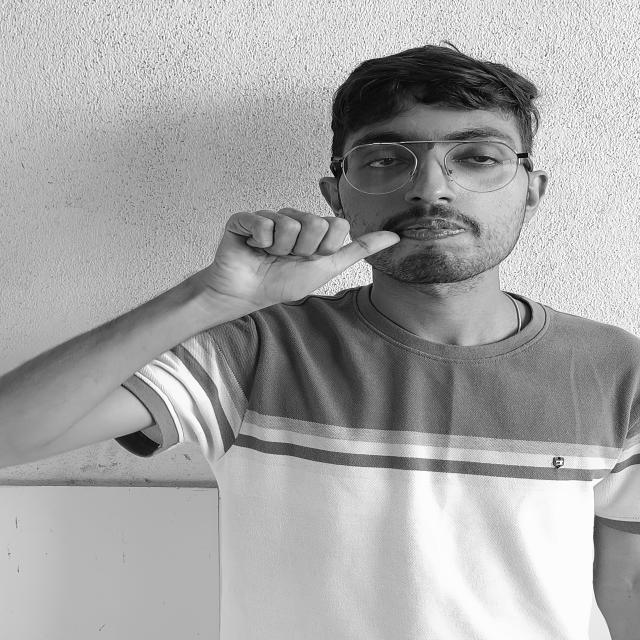Drink: (185, 186, 408, 320)
